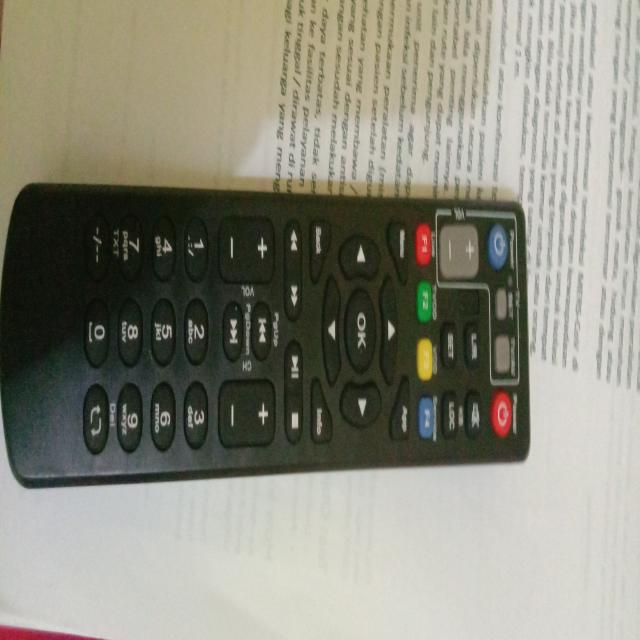remote: (2, 192, 535, 484)
